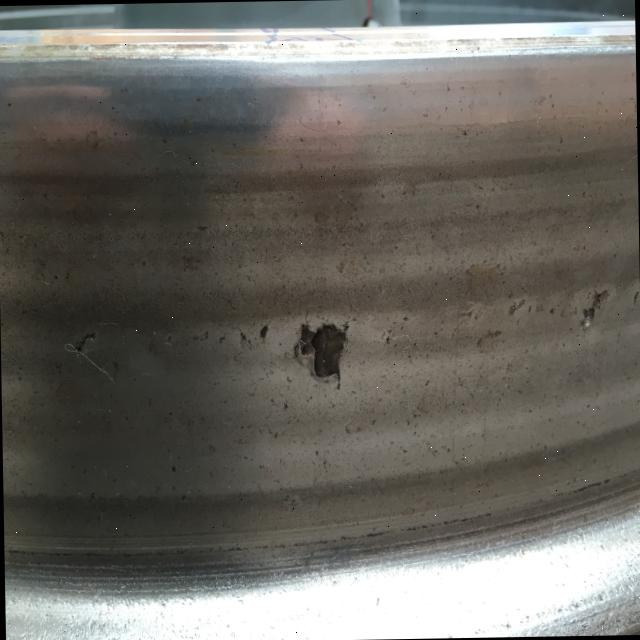Blue hole: (292, 324, 349, 389)
Peeling: (583, 291, 609, 329), (78, 331, 96, 351), (260, 323, 270, 342), (241, 332, 250, 345)
